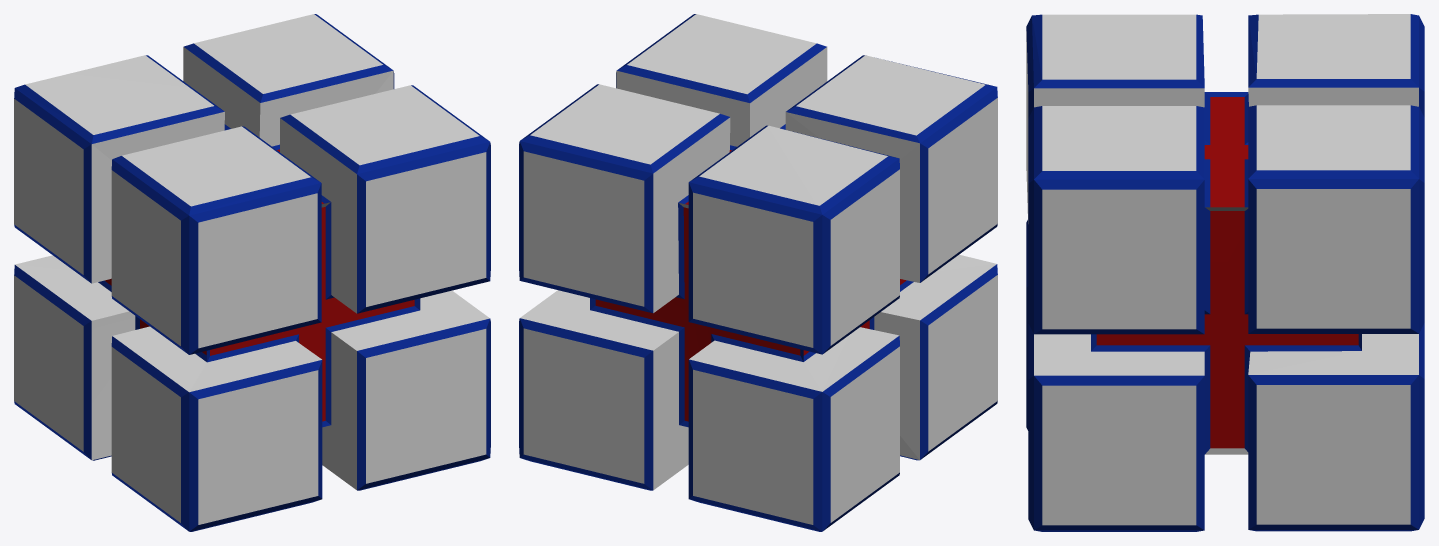
3 renders of one model, left to right at view 1: azimuth 30°, elevation 25°; view 2: azimuth 150°, elevation 25°; view 3: azimuth 270°, elevation 25°, orthographic. The views are drawn at different scales.
Visible parts, largest first — view 1: Box001; view 2: Box001; view 3: Box001.
Part boxes in pixels (x1,y1,x2,y2): Box001: (14, 14, 490, 531); Box001: (519, 14, 997, 531); Box001: (1026, 14, 1424, 531).
Bounding box in the file's own units: 34.96 × 35.04 × 34.98.
